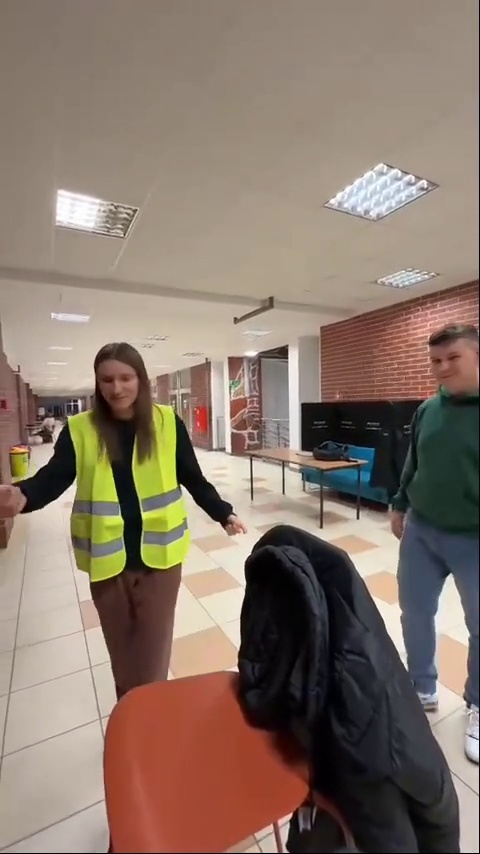no vest: (380, 321, 480, 787)
vest: (61, 345, 214, 694)
